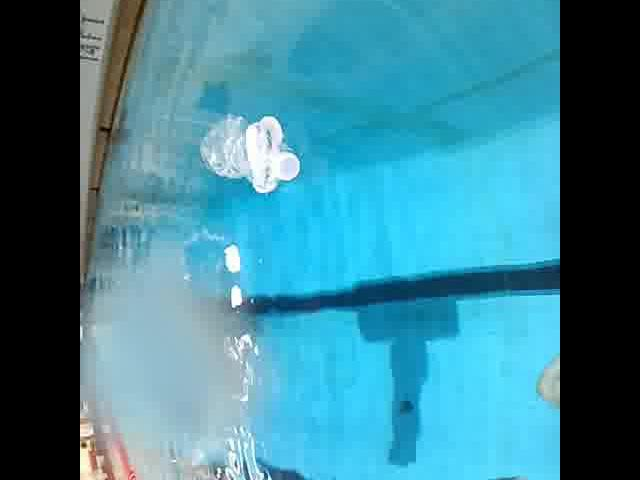Bottle: (198, 109, 308, 196)
